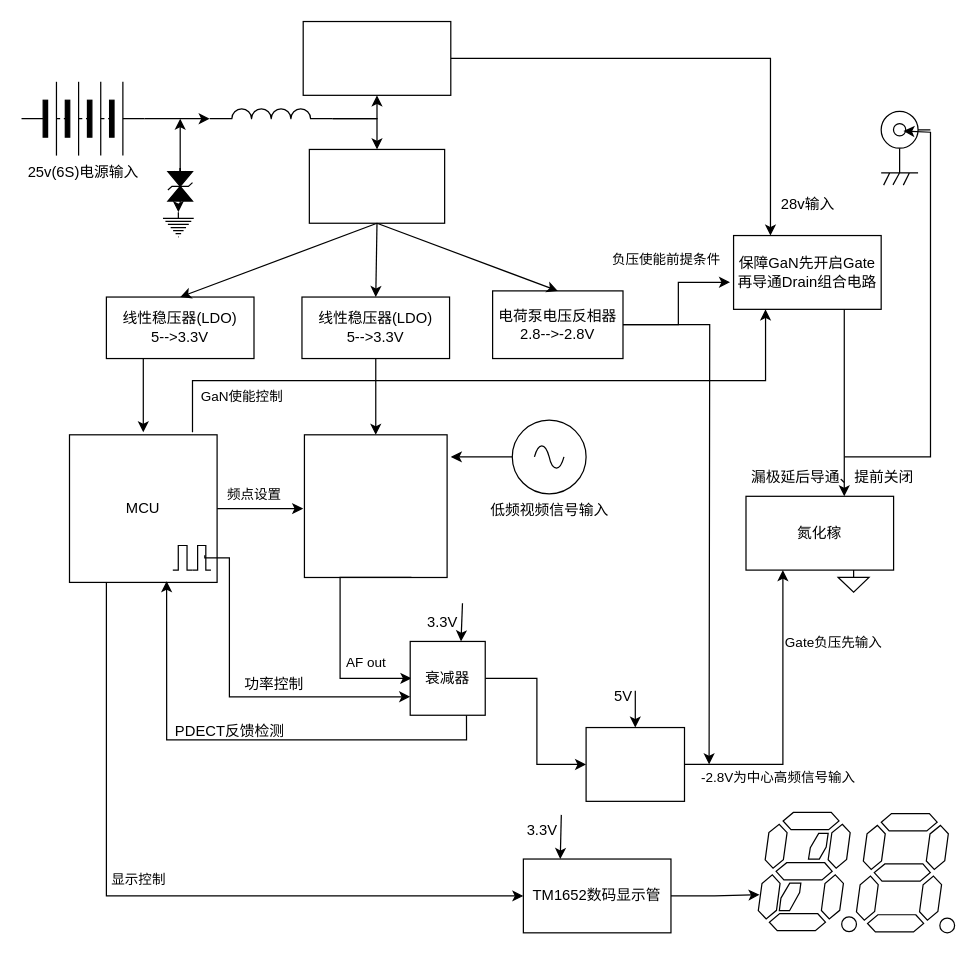
Some shapes in this 977 by 954 pixel diagram are drawn without their labels. The centre of each missing label's shape, as x and y in pixels:
"PLL频率合成器" goes at point (375, 505).
"TVS(26V)" goes at point (179, 186).
"二极放大" goes at point (634, 763).
"升压稳压器 25-->28v" goes at point (376, 57).
"降压型DC-DC电源25-->5V" goes at point (376, 185).
